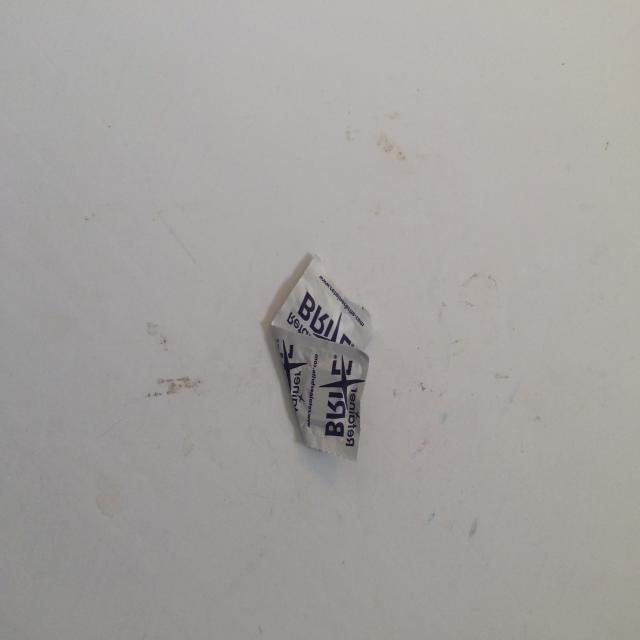plastic: (271, 253, 373, 462)
